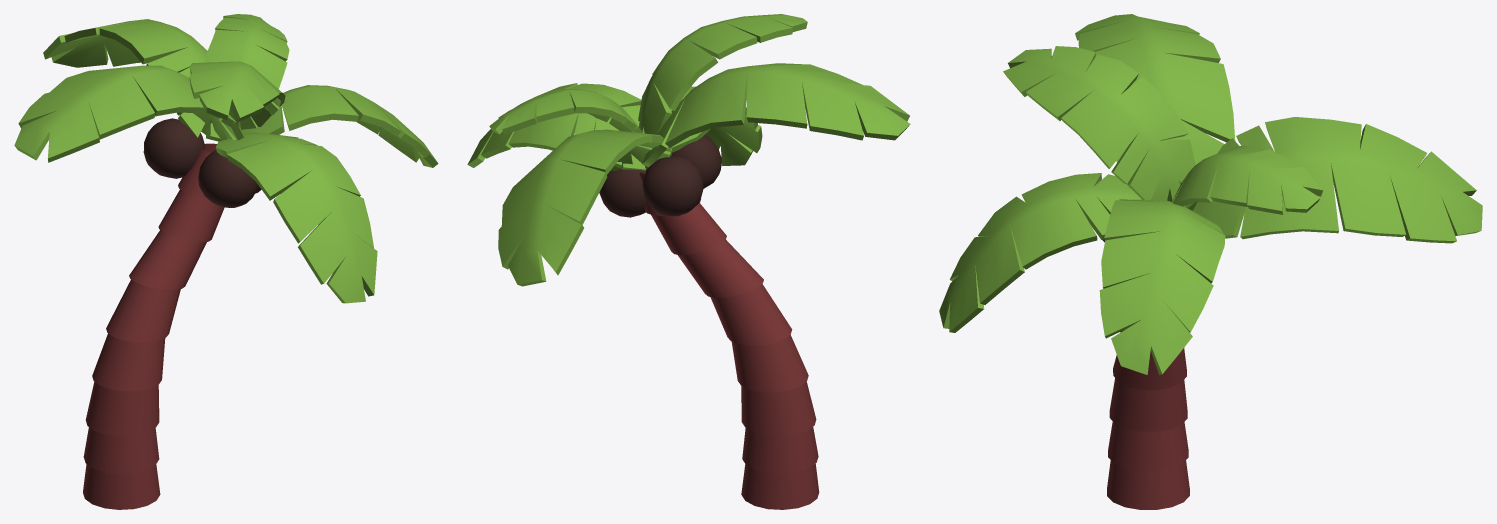
Rendered from palm_tree.glb.
The picture shows the model from 3 angles, left to right: view 1: azimuth 30°, elevation 25°; view 2: azimuth 150°, elevation 25°; view 3: azimuth 270°, elevation 25°; orthographic projection. The views are drawn at different scales.
Visible parts, largest first — view 1: Circle.2068; view 2: Circle.2068; view 3: Circle.2068.
Part boxes in pixels (box(x1,y1,x2,y2)): Circle.2068: box(14, 14, 438, 509); Circle.2068: box(467, 14, 910, 509); Circle.2068: box(939, 14, 1482, 509).
Size of the model in its own units: 2.03 by 1.98 by 2.09.
Materials: 1 (1 with a texture image).
